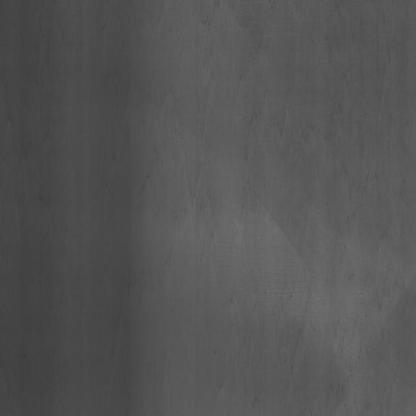silk_spot: (142, 61, 264, 260)
